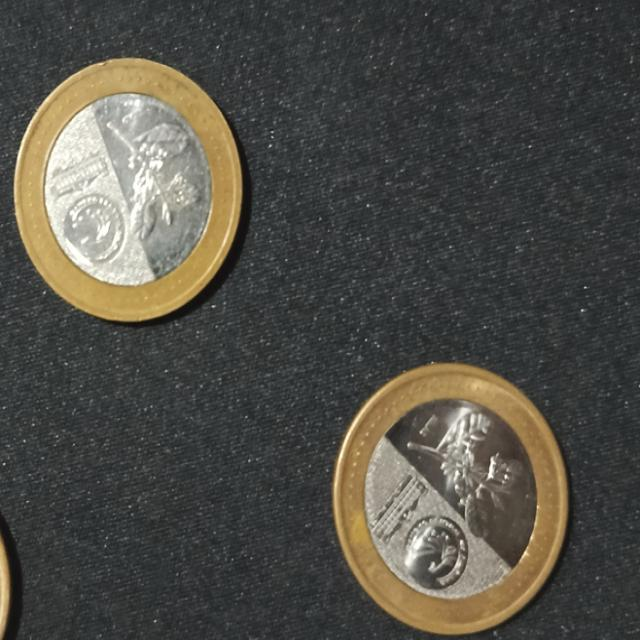20_peso: (333, 364, 567, 632), (15, 58, 241, 321)
